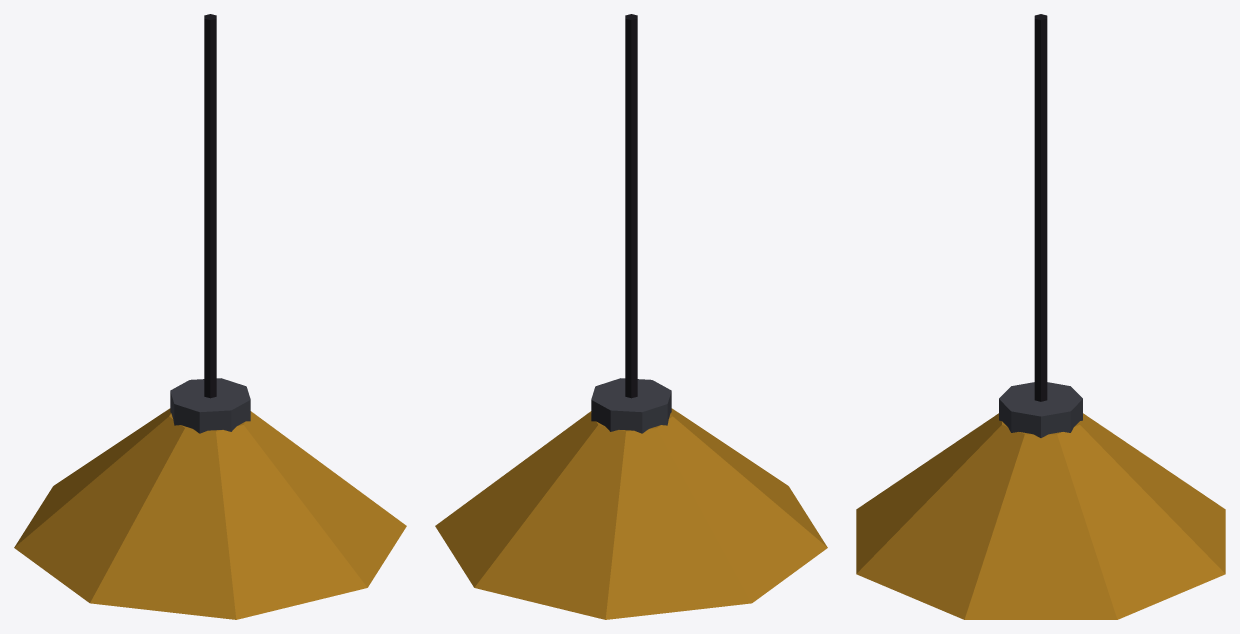
The model's file is ceiling_lamp.glb.
3 views of the same model, side by side, from view 1: azimuth 30°, elevation 25°; view 2: azimuth 150°, elevation 25°; view 3: azimuth 270°, elevation 25° (orthographic).
Parts seen in each view (by area): view 1: ceiling_lamp; view 2: ceiling_lamp; view 3: ceiling_lamp.
Part boxes in pixels (x1,y1,x2,y2): ceiling_lamp: (14,14,406,619); ceiling_lamp: (435,14,827,619); ceiling_lamp: (856,14,1225,619).
Bounding box in the file's own units: 0.3511 × 0.5918 × 0.3511.
